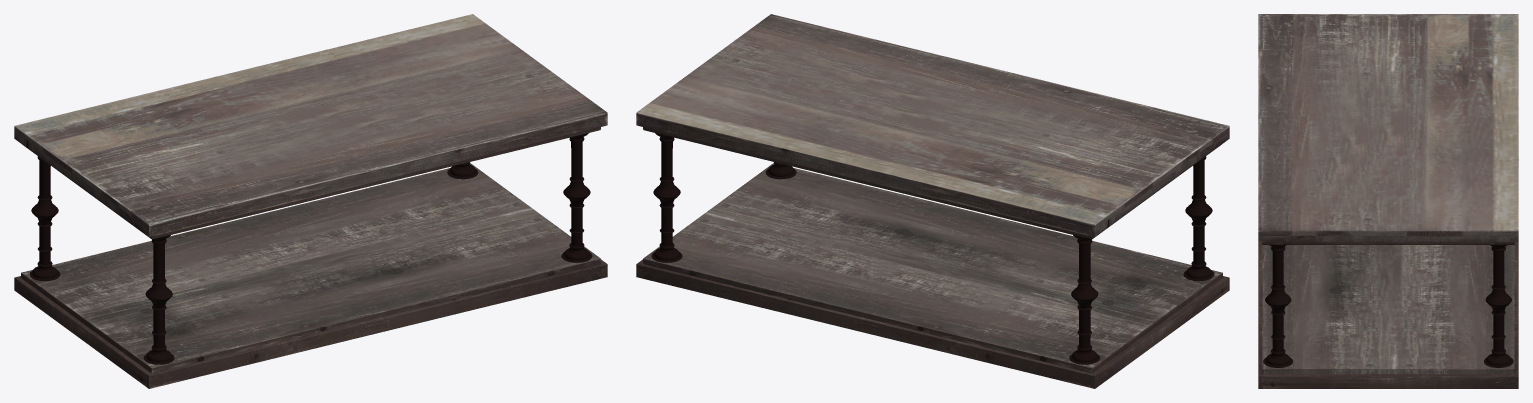
Rendered from abo-B07DBDZ4R4.glb.
3 views of the same model, side by side, from view 1: azimuth 30°, elevation 25°; view 2: azimuth 150°, elevation 25°; view 3: azimuth 270°, elevation 25° (orthographic). The views are drawn at different scales.
Size of the model in its own units: 1.09 by 0.373 by 0.554.
1 material, 1 textured.
